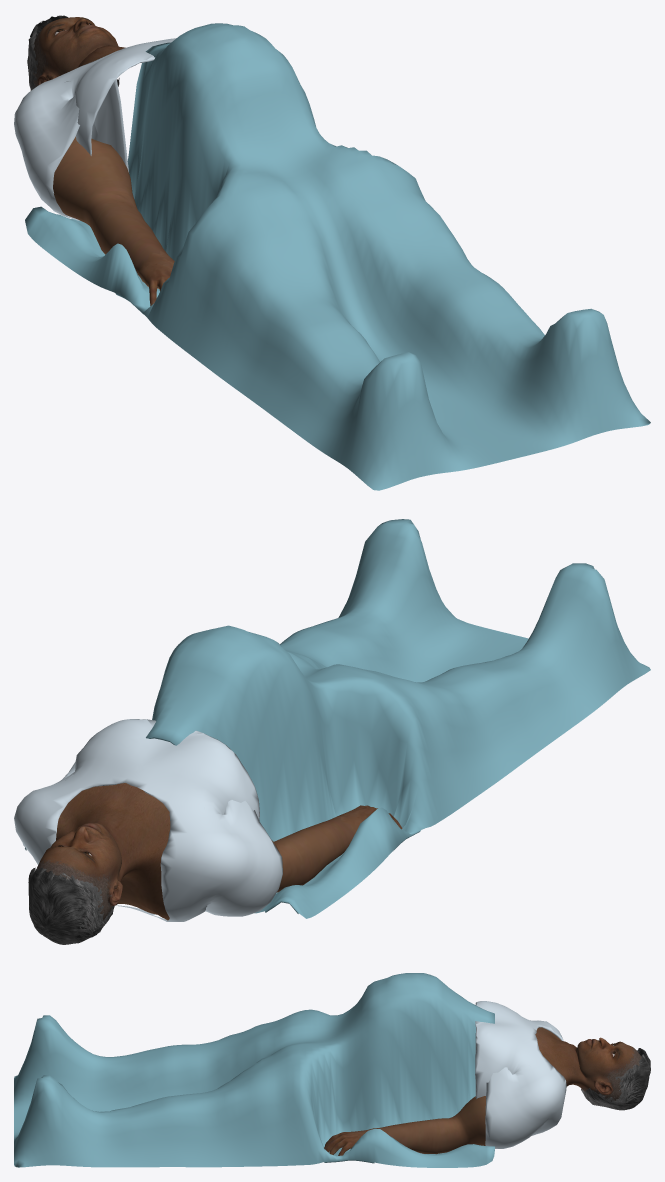
3 views of the same model, one above another, from view 1: azimuth 30°, elevation 25°; view 2: azimuth 150°, elevation 25°; view 3: azimuth 270°, elevation 25° (orthographic). The views are drawn at different scales.
Parts seen in each view (by area): view 1: sheet, gown, arms, body; view 2: sheet, gown, body, hair, arms; view 3: sheet, gown, body, arms, hair.
Boxes of the visible parts, box(x1,y1,x2,y2) form: sheet: box(25, 23, 650, 490); gown: box(14, 38, 176, 220); arms: box(53, 136, 174, 305); body: box(33, 17, 125, 87); sheet: box(25, 519, 650, 918); gown: box(14, 719, 282, 921); body: box(37, 783, 170, 920); hair: box(28, 867, 114, 944); arms: box(272, 805, 402, 892); sheet: box(14, 973, 494, 1167); gown: box(475, 1001, 566, 1148); body: box(535, 1027, 641, 1101); arms: box(324, 1096, 485, 1155); hair: box(581, 1048, 650, 1110).
Bounding box in the file's own units: 0.6591 × 0.4852 × 1.92.
Materials: 8 (6 with a texture image).
